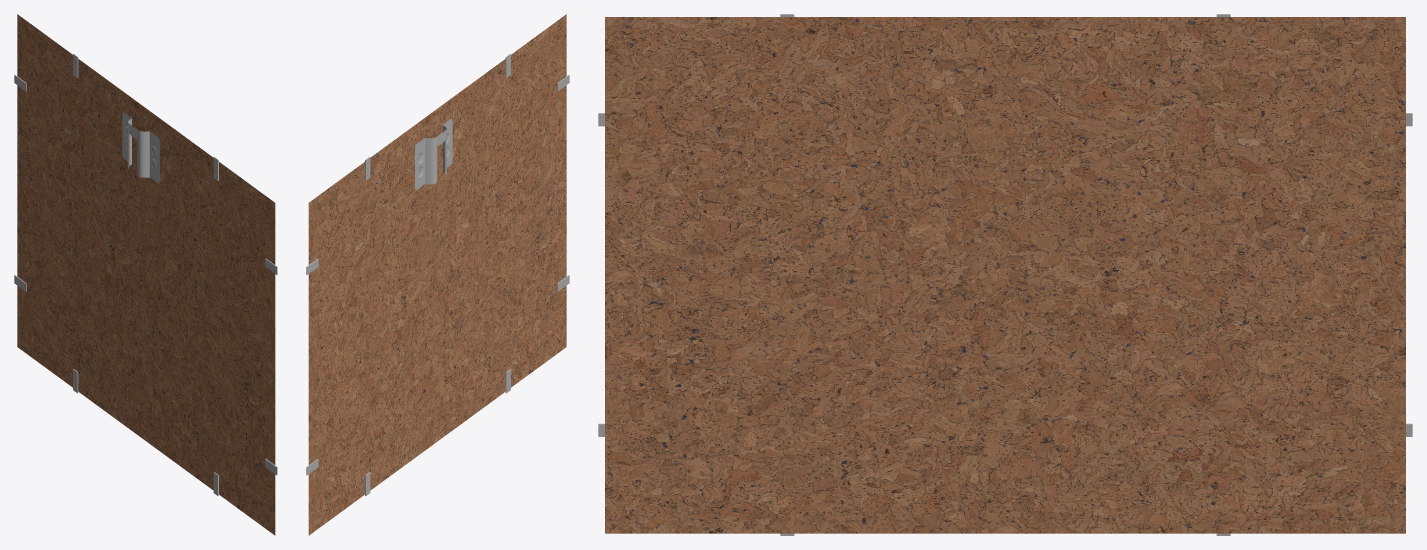
The model's file is FrameBack.obj.
3 views of the same model, side by side, from view 1: azimuth 30°, elevation 25°; view 2: azimuth 150°, elevation 25°; view 3: azimuth 270°, elevation 25° (orthographic). The views are drawn at different scales.
Parts seen in each view (by area): view 1: FrameBack; view 2: FrameBack; view 3: FrameBack.
Part boxes in pixels (box(x1,y1,x2,y2)): FrameBack: box(14, 14, 277, 535); FrameBack: box(306, 14, 569, 535); FrameBack: box(598, 14, 1412, 535).
Size of the model in its own units: 0.0114 by 0.4386 by 0.6208.
